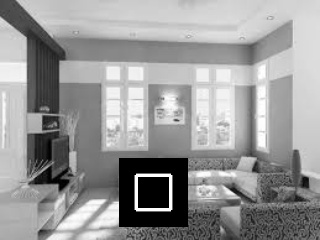square: (118, 158, 188, 227)
